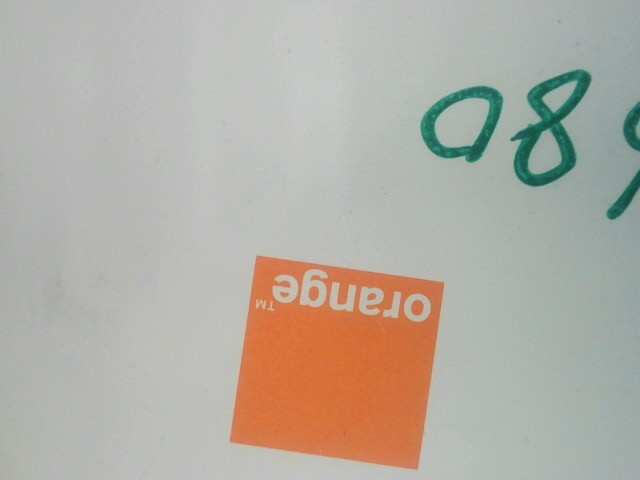AR_Orange: (226, 249, 438, 474)
